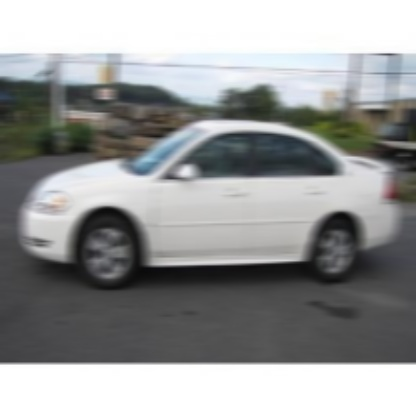Vehicle: (21, 119, 401, 294)
